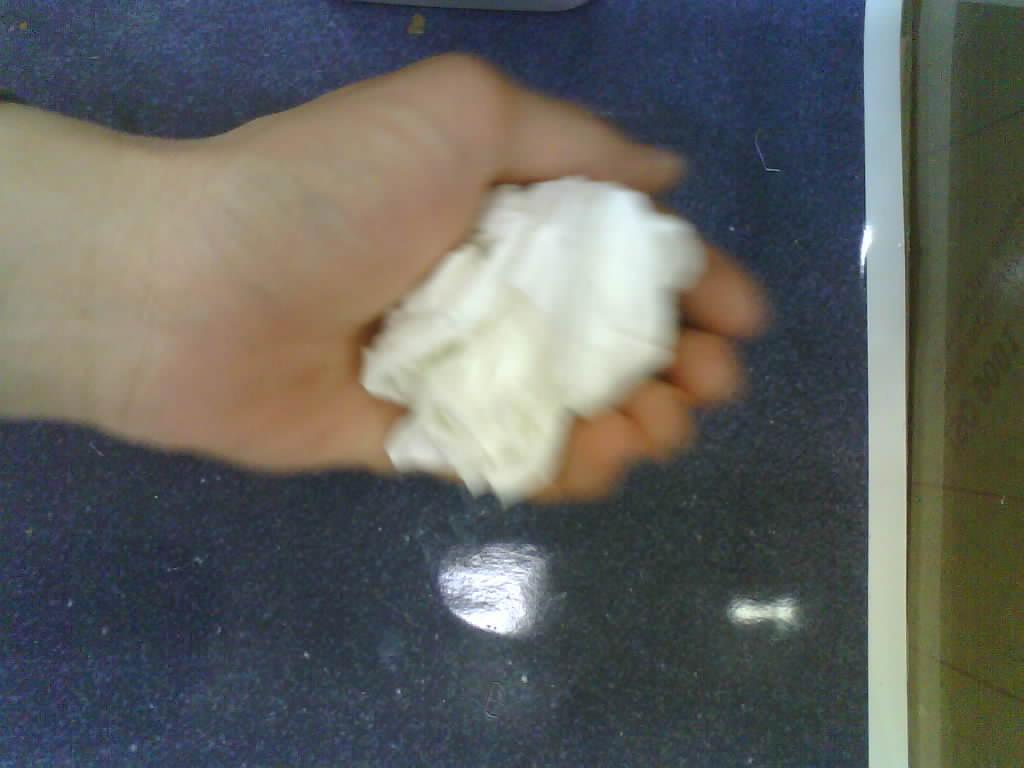paper: (362, 178, 706, 504)
